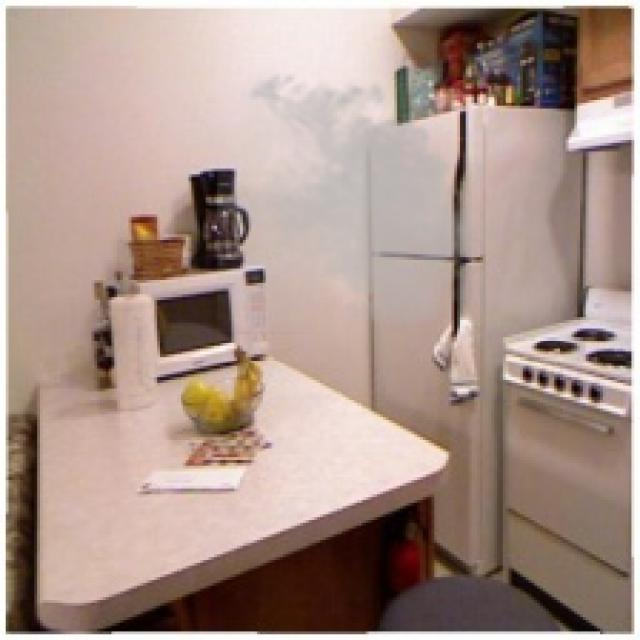smoke: (217, 66, 489, 334)
